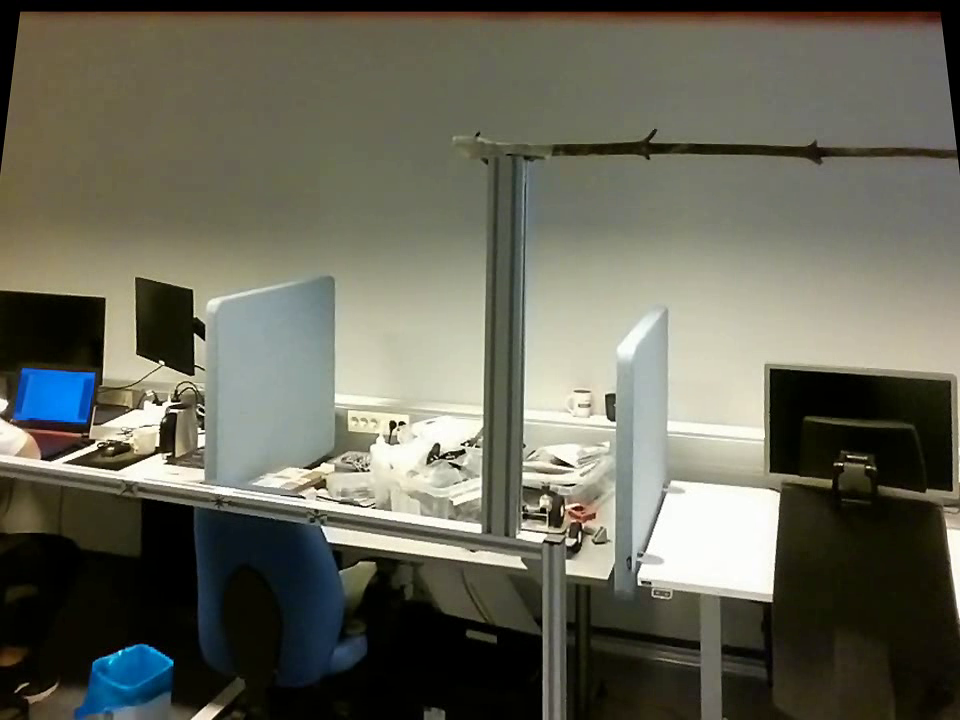aluminum_frame: (1, 452, 541, 562), (476, 162, 524, 536), (536, 528, 571, 717)
branch: (561, 122, 957, 175)
